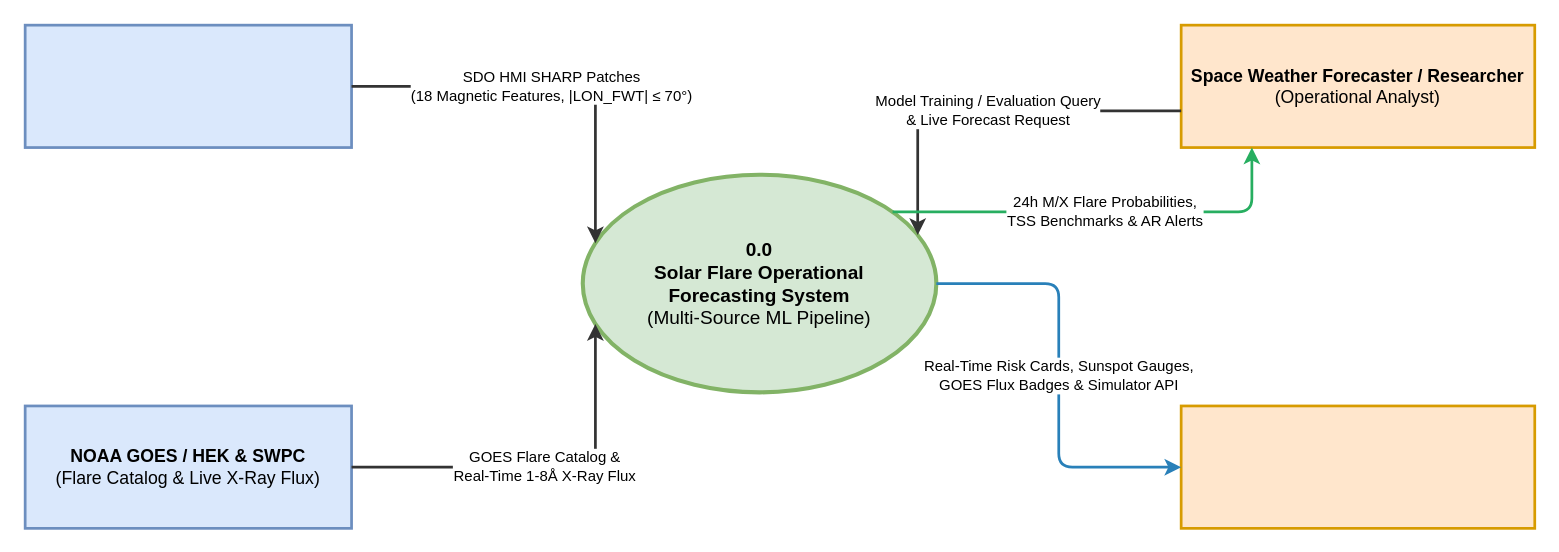
This 1559x552 diagram has some shape labels left out. The shapes that lost their labels are listed below. From the top down, each one's centre as x and y in pixels, then its label:
At point 187,85: "NASA SDO / Stanford JSOC (Solar Dynamics Observatory Telemetry)".
At point 1357,466: "Public Web Dashboard Client (Render Cloud / HelioForecast.AI)".
